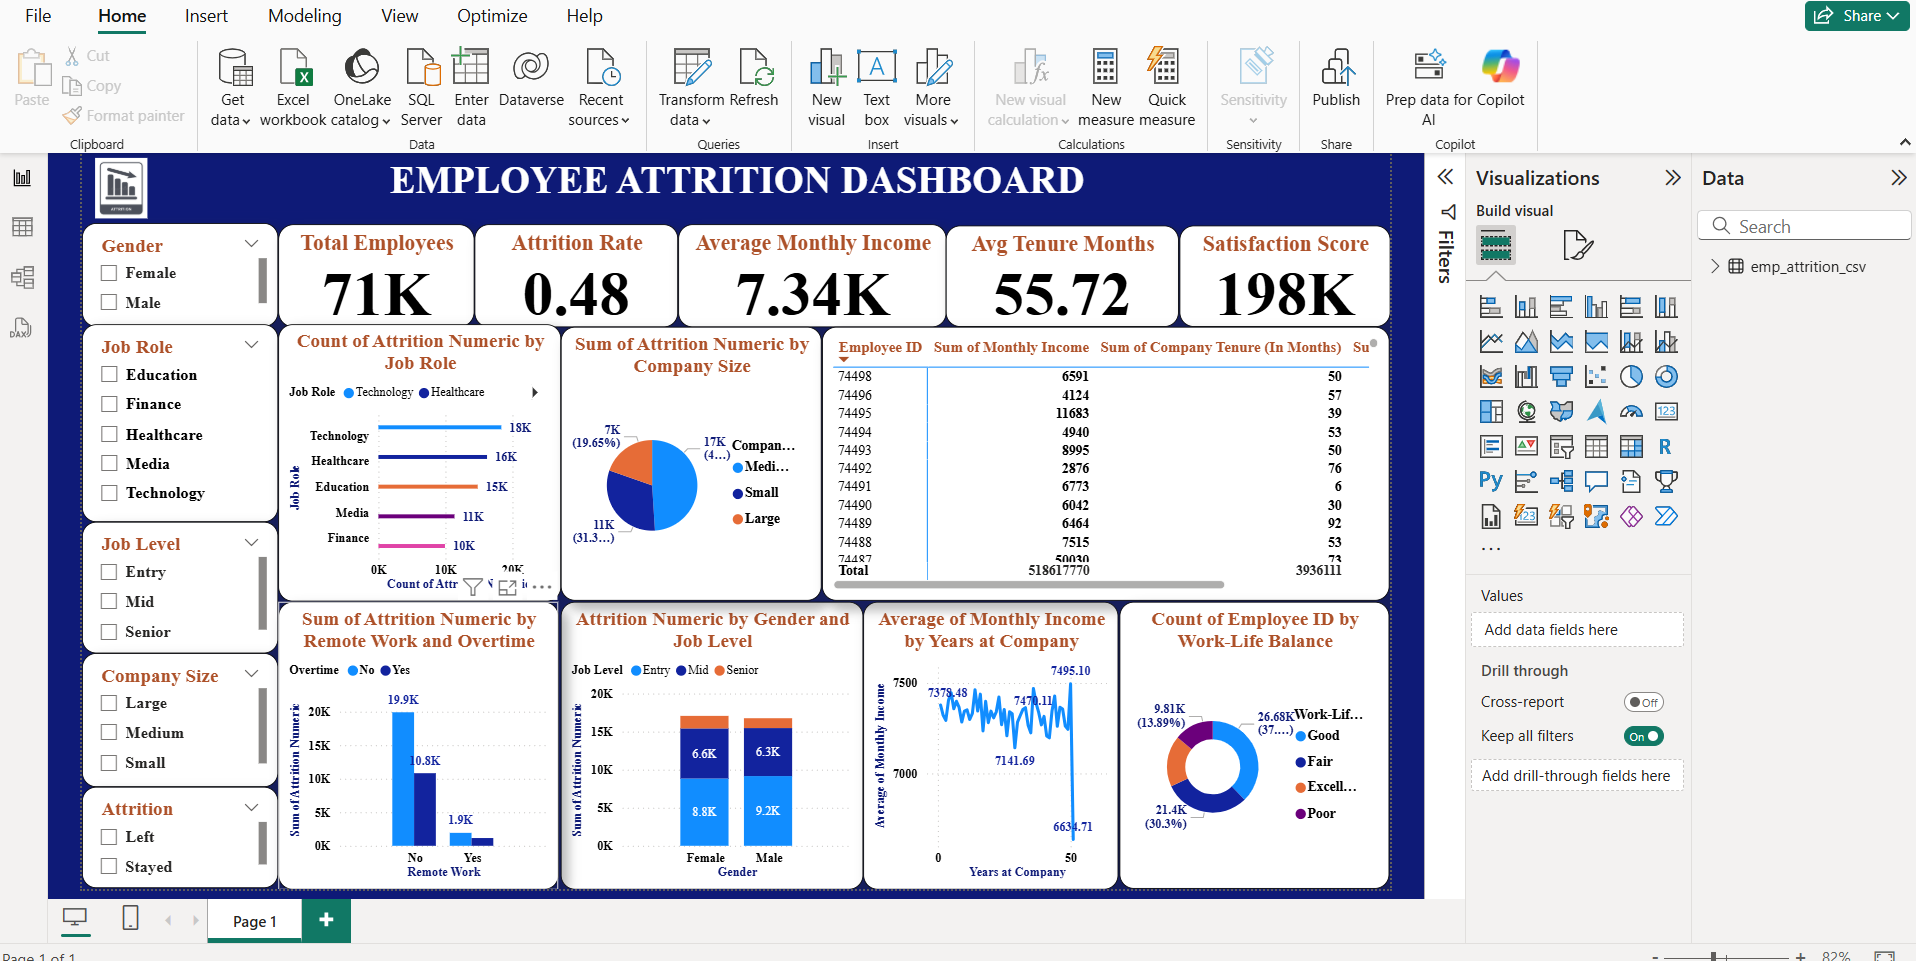

The dashboard page shown, as its layout file describes it:
{"tool":"powerbi","page":{"name":"Page 1","canvas":[1280,720],"ordinal":0},"visuals":[{"type":"slicer","fields":{"Values":["emp_attrition_csv.Gender"]},"box":[0,68.8,191.8,101.3],"z":0},{"type":"textbox","box":[121.9,0,1037.5,57.9],"z":1000},{"type":"image","box":[0,0,77.2,68.8],"z":2000},{"type":"slicer","fields":{"Values":["emp_attrition_csv.Job Role"]},"box":[0,167.4,191.9,193.3],"z":3000},{"type":"slicer","fields":{"Values":["emp_attrition_csv.Job Level"]},"box":[0,360.7,191.9,128.4],"z":4000},{"type":"slicer","fields":{"Values":["emp_attrition_csv.Company Size"]},"box":[0,489.1,191.9,131.3],"z":5000},{"type":"slicer","fields":{"Values":["emp_attrition_csv.Attrition"]},"box":[0,620.4,191.9,99.6],"z":6000},{"type":"card","title":"Total Employees","fields":{"Values":["emp_attrition_csv.Total Employees"]},"box":[191.9,69.3,191.9,101],"z":7000},{"type":"card","title":"Attrition Rate","fields":{"Values":["emp_attrition_csv.Attrition Rate"]},"box":[383.8,69.3,199.1,101],"z":8000},{"type":"card","title":"Average Monthly Income","fields":{"Values":["emp_attrition_csv.Average Monthly Income"]},"box":[582.9,69.3,262.6,101],"z":9000},{"type":"card","title":"Avg Tenure Months","fields":{"Values":["emp_attrition_csv.Avg Tenure Months"]},"box":[845.5,70.7,228,99.6],"z":10000},{"type":"card","title":"Satisfaction Score","fields":{"Values":["Sum(emp_attrition_csv.Satisfaction Score)"]},"box":[1073.4,70.7,206.3,99.6],"z":11000},{"type":"clusteredBarChart","title":"Count of Attrition Numeric by Job Role","fields":{"Y":["CountNonNull(emp_attrition_csv.Attrition Numeric)"],"Category":["emp_attrition_csv.Job Role"],"Series":["emp_attrition_csv.Job Role"]},"box":[191.9,167.4,277,271.2],"z":12000},{"type":"columnChart","title":"Attrition Numeric by Gender and Job Level","fields":{"Category":["emp_attrition_csv.Gender"],"Y":["Sum(emp_attrition_csv.Attrition Numeric)"],"Series":["emp_attrition_csv.Job Level"]},"box":[468.9,438.6,295.8,281.3],"z":13000},{"type":"pieChart","fields":{"Y":["Sum(emp_attrition_csv.Attrition Numeric)"],"Category":["emp_attrition_csv.Company Size"]},"box":[468.9,170.2,255.4,268.4],"z":14000},{"type":"lineChart","fields":{"Category":["emp_attrition_csv.Years at Company"],"Y":["Avg(emp_attrition_csv.Monthly Income)"]},"box":[764.7,438.6,249.6,281.3],"z":15000},{"type":"clusteredColumnChart","fields":{"Category":["emp_attrition_csv.Remote Work"],"Y":["Sum(emp_attrition_csv.Attrition Numeric)"],"Series":["emp_attrition_csv.Overtime"]},"box":[191.9,438.6,274.1,281.3],"z":16000},{"type":"pivotTable","fields":{"Rows":["emp_attrition_csv.ï»¿Employee ID"],"Values":["Sum(emp_attrition_csv.Monthly Income)","Sum(emp_attrition_csv.Company Tenure (In Months))","Sum(emp_attrition_csv.Performance Score)"]},"box":[724.3,170.2,555.5,268.4],"z":17000},{"type":"donutChart","fields":{"Category":["emp_attrition_csv.Work-Life Balance"],"Y":["CountNonNull(emp_attrition_csv.Employee ID)"]},"box":[1015,439,264,281],"z":18000}]}

Visuals, with their boxes on the page's 1280x720 design canvas (x1, y1, x2, y2). These are canvas units, not pixel positions in the 1916x961 screenshot, which may show the page scaled, cropped or inside an application window:
slicer - emp_attrition_csv.Gender: BBox(0, 69, 192, 170)
textbox: BBox(122, 0, 1159, 58)
image: BBox(0, 0, 77, 69)
slicer - emp_attrition_csv.Job Role: BBox(0, 167, 192, 361)
slicer - emp_attrition_csv.Job Level: BBox(0, 361, 192, 489)
slicer - emp_attrition_csv.Company Size: BBox(0, 489, 192, 620)
slicer - emp_attrition_csv.Attrition: BBox(0, 620, 192, 720)
"Total Employees" card: BBox(192, 69, 384, 170)
"Attrition Rate" card: BBox(384, 69, 583, 170)
"Average Monthly Income" card: BBox(583, 69, 846, 170)
"Avg Tenure Months" card: BBox(846, 71, 1074, 170)
"Satisfaction Score" card: BBox(1073, 71, 1280, 170)
"Count of Attrition Numeric by Job Role" clusteredBarChart: BBox(192, 167, 469, 439)
"Attrition Numeric by Gender and Job Level" columnChart: BBox(469, 439, 765, 720)
pieChart - Sum(emp_attrition_csv.Attrition Numeric) x emp_attrition_csv.Company Size: BBox(469, 170, 724, 439)
lineChart - emp_attrition_csv.Years at Company x Avg(emp_attrition_csv.Monthly Income): BBox(765, 439, 1014, 720)
clusteredColumnChart - emp_attrition_csv.Remote Work x Sum(emp_attrition_csv.Attrition Numeric): BBox(192, 439, 466, 720)
pivotTable - emp_attrition_csv.ï»¿Employee ID x Sum(emp_attrition_csv.Monthly Income): BBox(724, 170, 1280, 439)
donutChart - emp_attrition_csv.Work-Life Balance x CountNonNull(emp_attrition_csv.Employee ID): BBox(1015, 439, 1279, 720)
